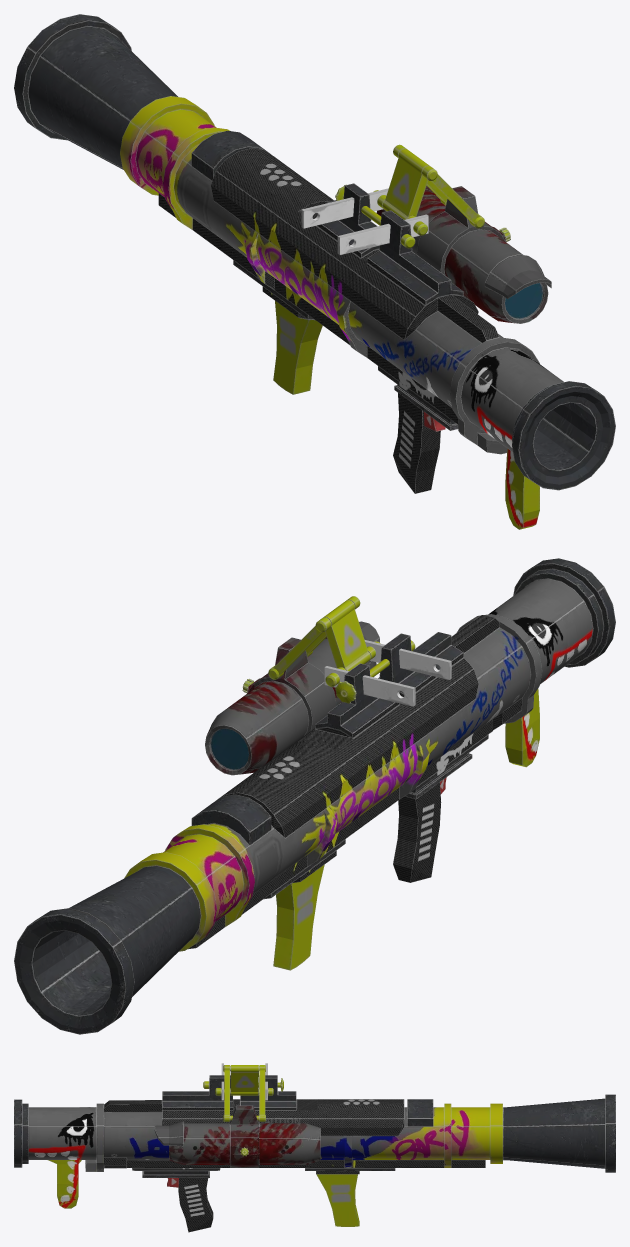
Rendered from rpg.glb.
The picture shows the model from 3 angles, top to bottom: view 1: azimuth 30°, elevation 25°; view 2: azimuth 150°, elevation 25°; view 3: azimuth 270°, elevation 25°; orthographic projection. The views are drawn at different scales.
Visible parts, largest first — view 1: Cylinder001, Cylinder002, Cylinder004, Box002; view 2: Cylinder001, Cylinder002, Cylinder004, Box002; view 3: Cylinder001, Cylinder002, Cylinder004.
Part boxes in pixels (x1,y1,x2,y2): Cylinder001: (14, 14, 615, 529); Cylinder002: (376, 185, 551, 323); Cylinder004: (373, 144, 484, 235); Box002: (301, 188, 428, 254); Cylinder001: (14, 558, 615, 1034); Cylinder002: (205, 621, 379, 775); Cylinder004: (268, 596, 380, 686); Box002: (324, 640, 451, 706); Cylinder001: (14, 1075, 615, 1232); Cylinder002: (154, 1105, 320, 1167); Cylinder004: (215, 1065, 273, 1121).
Size of the model in its own units: 104 by 154 by 477.
Materials: 9 (9 with a texture image).
